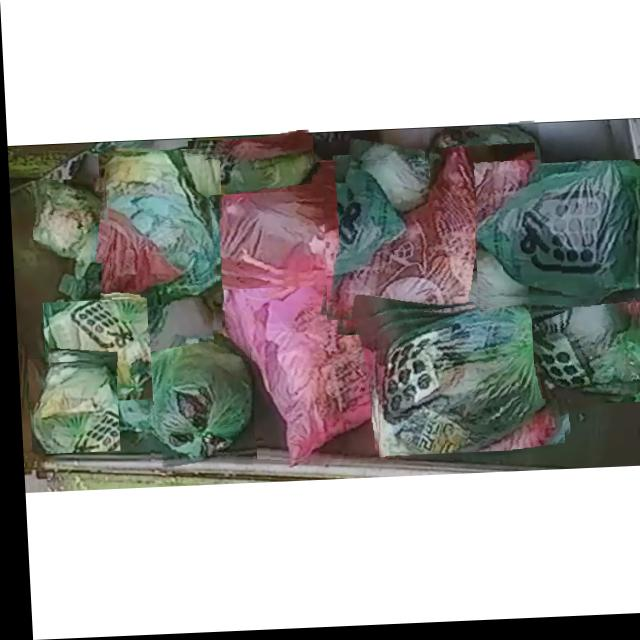general_trashbag: (372, 300, 555, 459), (472, 167, 640, 303), (103, 153, 211, 342), (529, 274, 640, 401), (143, 332, 248, 462), (44, 301, 146, 397), (426, 131, 539, 213), (28, 360, 113, 453), (30, 181, 107, 257), (188, 151, 310, 197)
other_trashbag: (323, 161, 525, 322), (136, 164, 391, 283), (221, 289, 378, 463)
